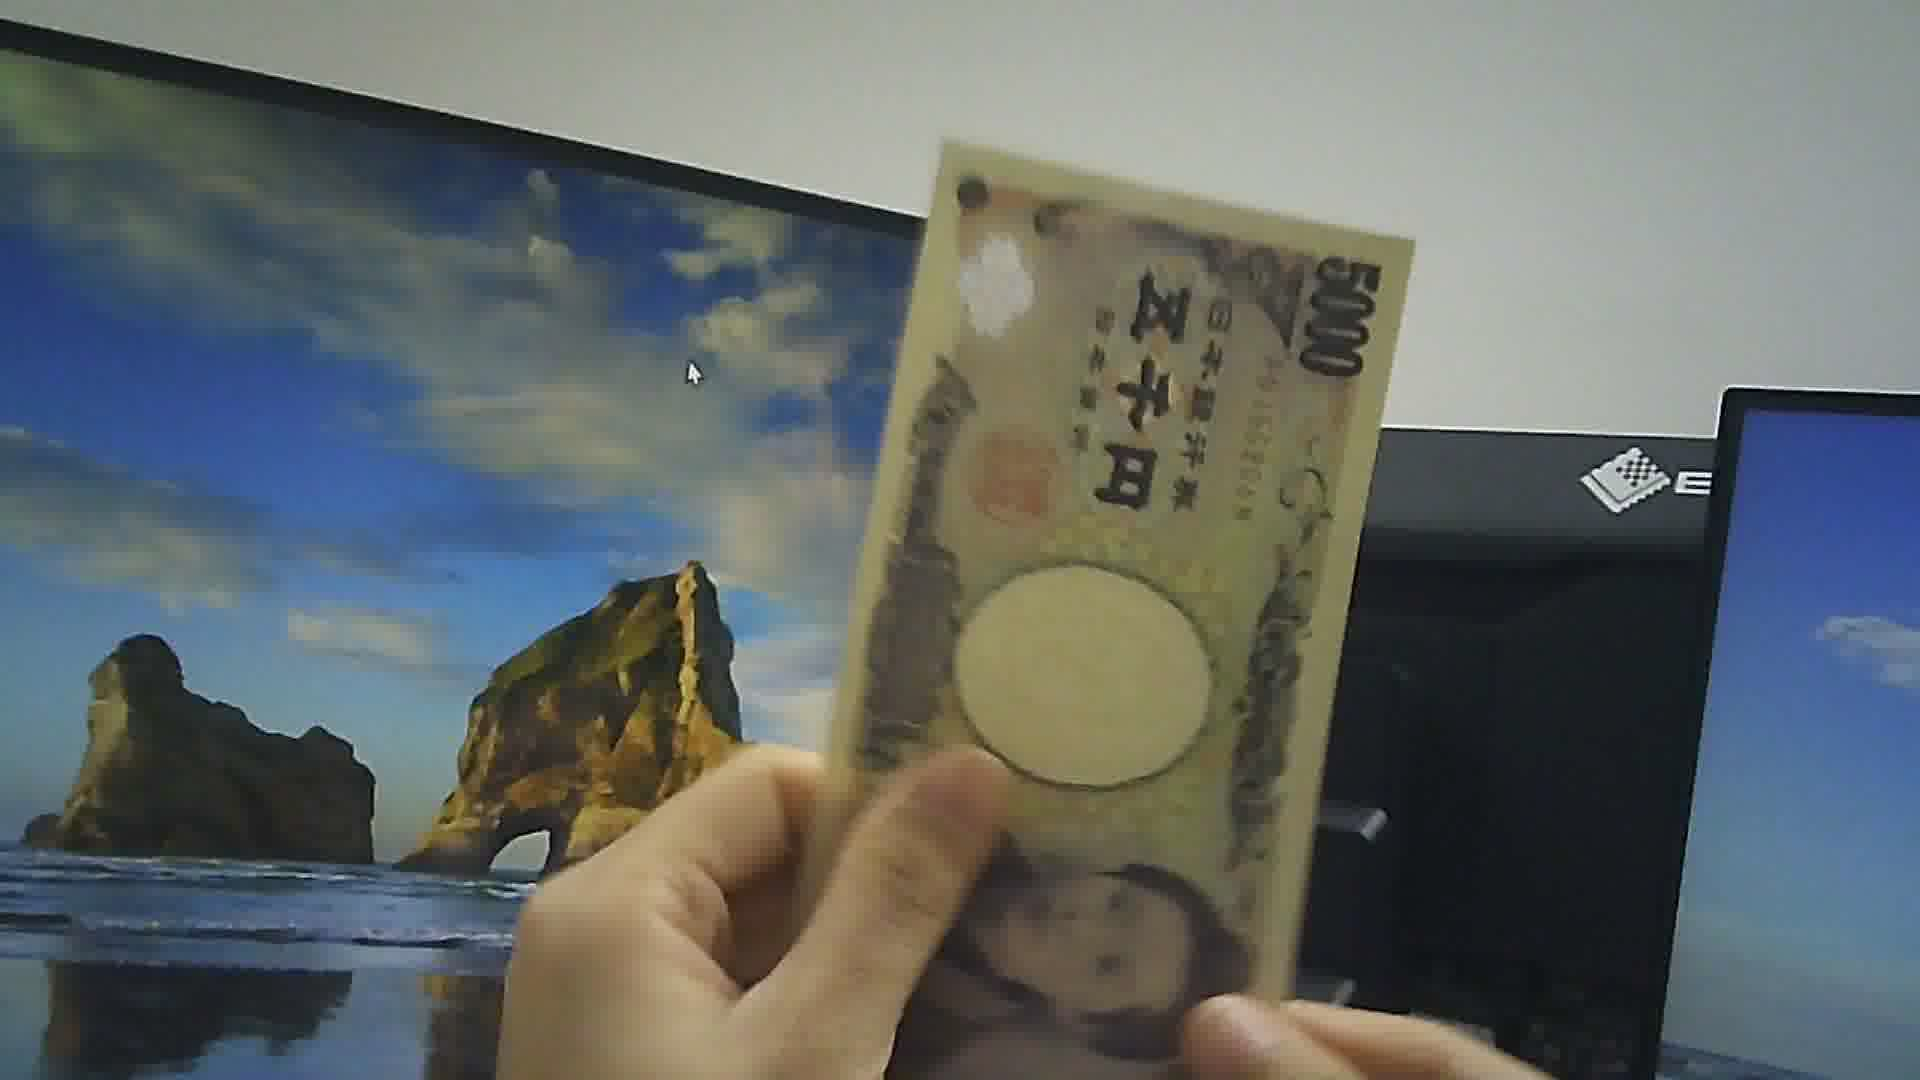5,000 Yen: (800, 123, 1414, 1079)
